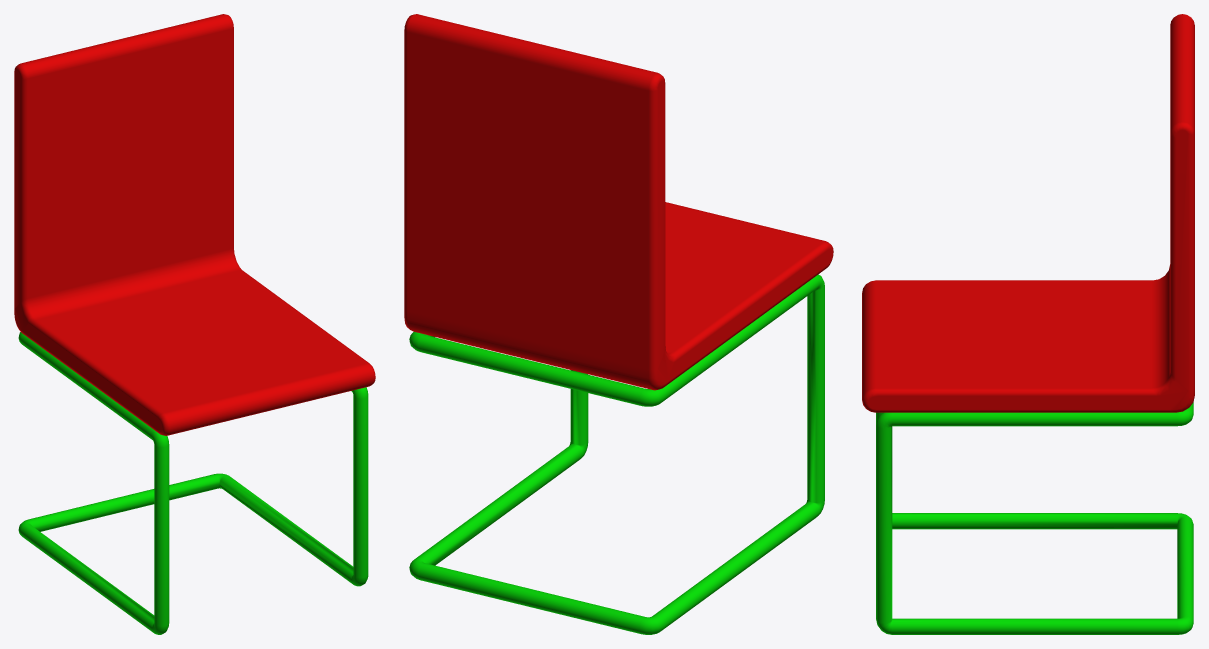
The model's file is chair.fbx.
The picture shows the model from 3 angles, left to right: view 1: azimuth 30°, elevation 25°; view 2: azimuth 150°, elevation 25°; view 3: azimuth 270°, elevation 25°; orthographic projection. The views are drawn at different scales.
Parts seen in each view (by area): view 1: chair; view 2: chair; view 3: chair.
Boxes of the visible parts, x1,y1,x2,y2 form: chair: [14, 14, 375, 634]; chair: [404, 14, 833, 634]; chair: [862, 14, 1194, 634].
Bounding box in the file's own units: 50 × 106 × 62.29.
